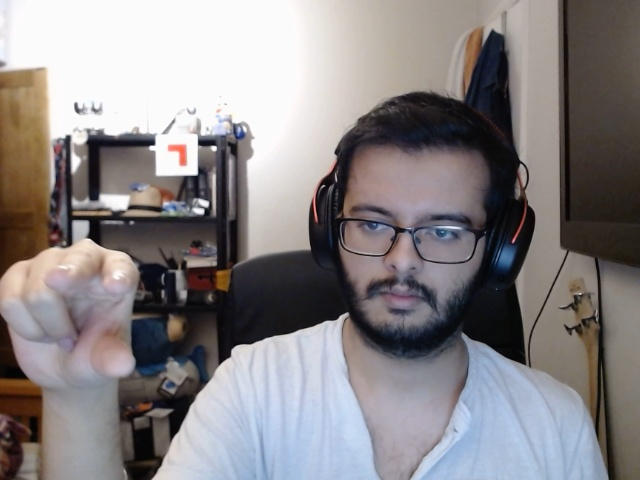No: (1, 228, 153, 388)
